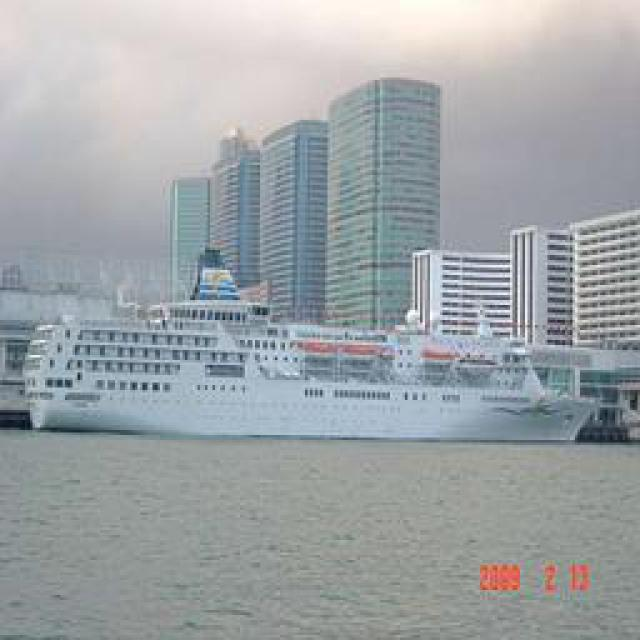Ship: (15, 250, 623, 448)
